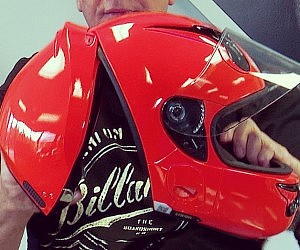with_helmet: (1, 7, 300, 243)
